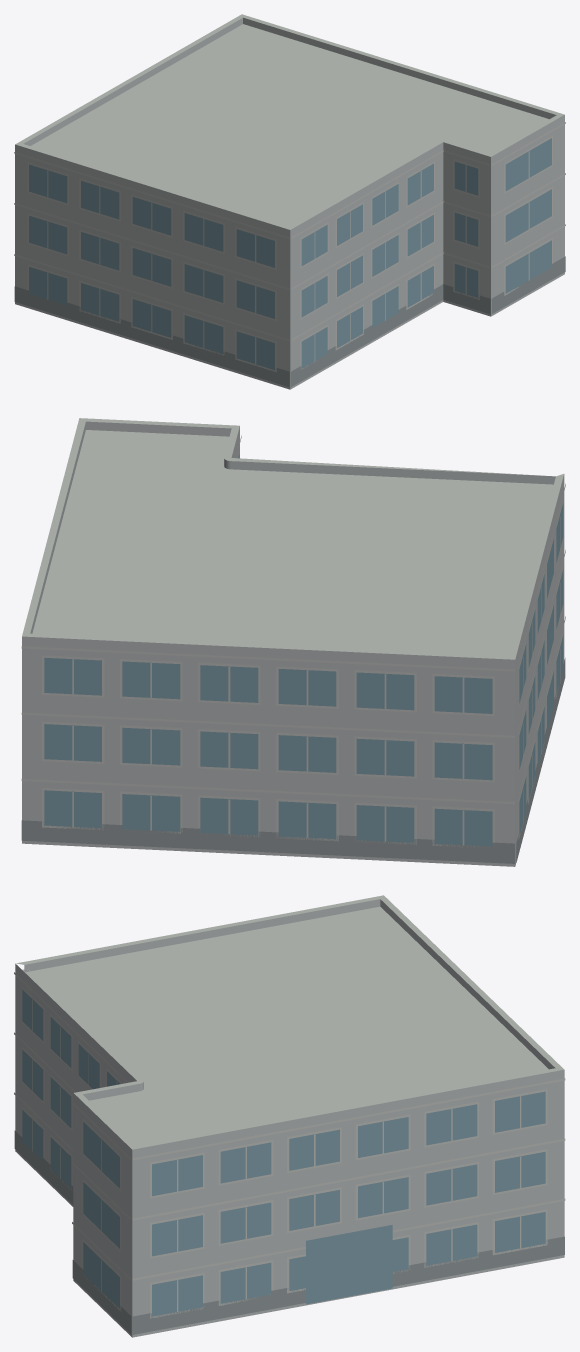
The model's file is public-e8b5ba1f-9da8-4461-bc12-ff22813801f0.glb.
3 renders of one model, top to bottom at view 1: azimuth 30°, elevation 25°; view 2: azimuth 150°, elevation 25°; view 3: azimuth 270°, elevation 25°, orthographic. The views are drawn at different scales.
Visible parts, largest first — view 1: public-e8b5ba1f-9da8-4461-bc12-ff22813801f0; view 2: public-e8b5ba1f-9da8-4461-bc12-ff22813801f0; view 3: public-e8b5ba1f-9da8-4461-bc12-ff22813801f0.
Part boxes in pixels (x1,y1,x2,y2): public-e8b5ba1f-9da8-4461-bc12-ff22813801f0: (14, 14, 565, 389); public-e8b5ba1f-9da8-4461-bc12-ff22813801f0: (21, 418, 565, 866); public-e8b5ba1f-9da8-4461-bc12-ff22813801f0: (14, 895, 565, 1337).
Bounding box in the file's own units: 26.69 × 9.15 × 24.35.
